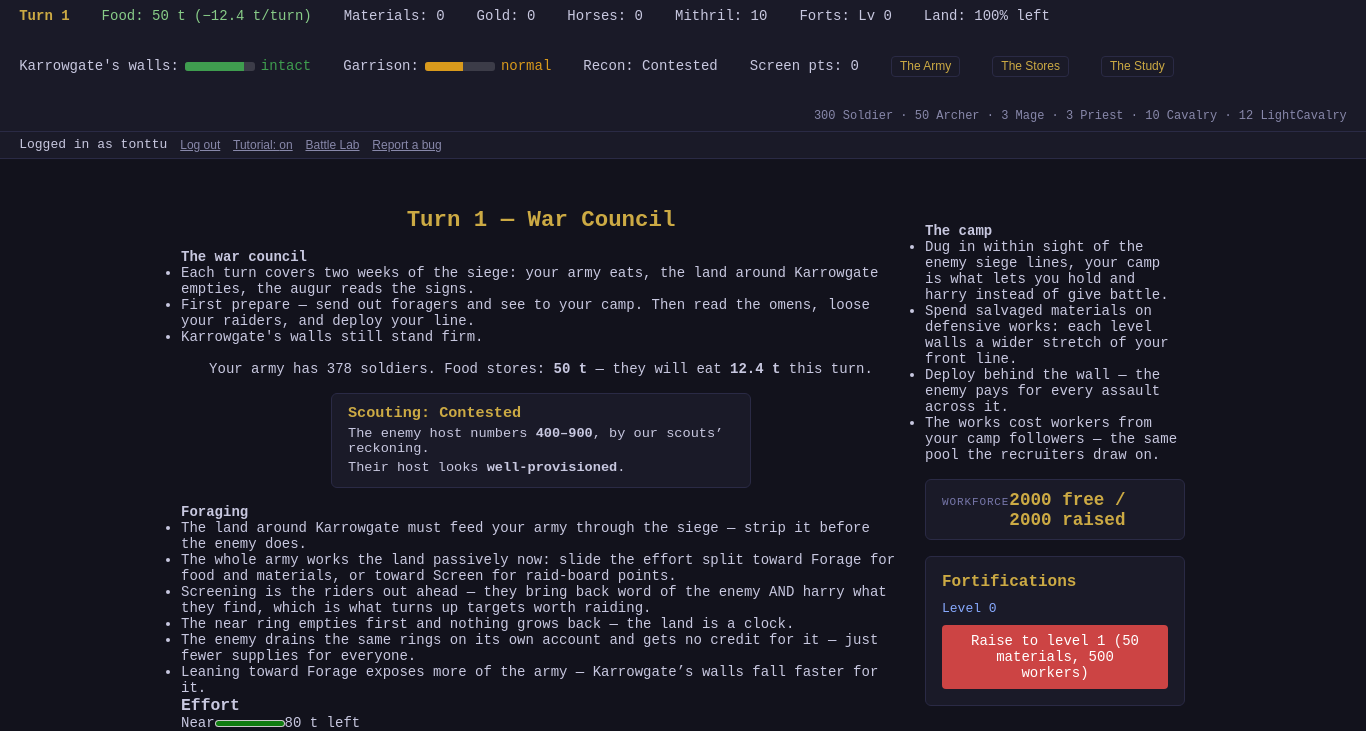
Test case: the paths a caster commands (docs/CAMPAIGN_PLAN.md "▶ SLICE 2", S2-13) › names them beside the character, so the hire gamble pays off the turn you take it
expect the heading "Turn 1 — War Council" is shown: met, box [407,207,675,233]
Click the button with test id "hud-army" at (926,66), box [891,56,960,77]
(page scrolled)
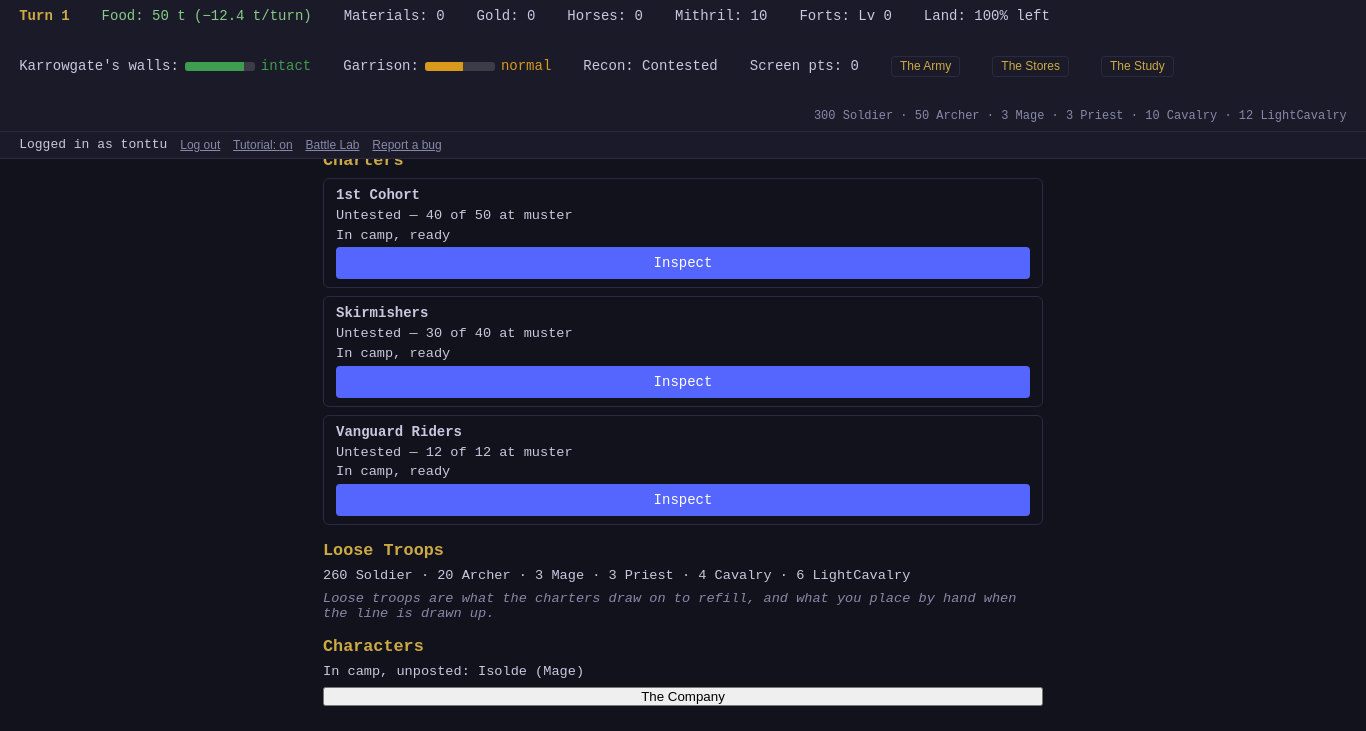
expect the element with test id "squad-roll" is shown: met, box [323,159,1043,706]
Click the button with test id "roll-to-company" at (683,697), box [323,687,1043,706]
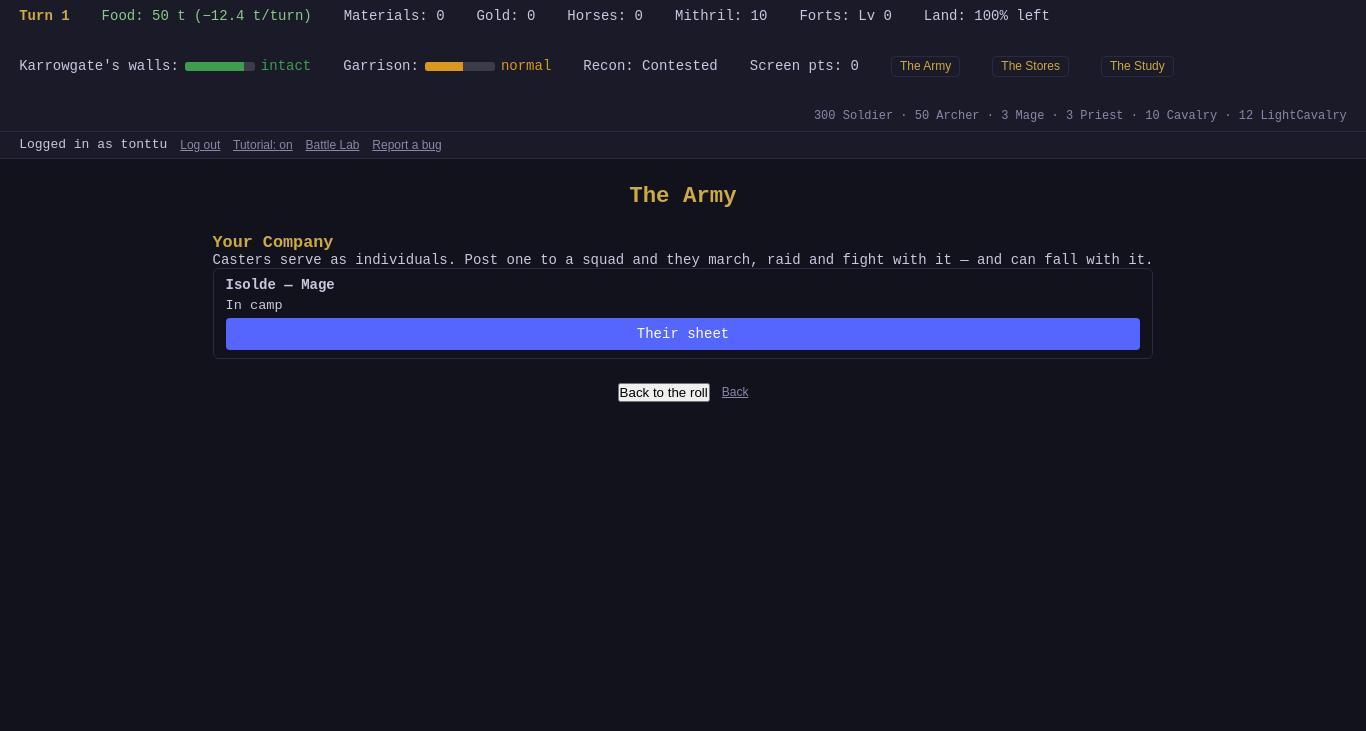
Click the button "Their sheet" at (683,334), box [226,318,1140,350]
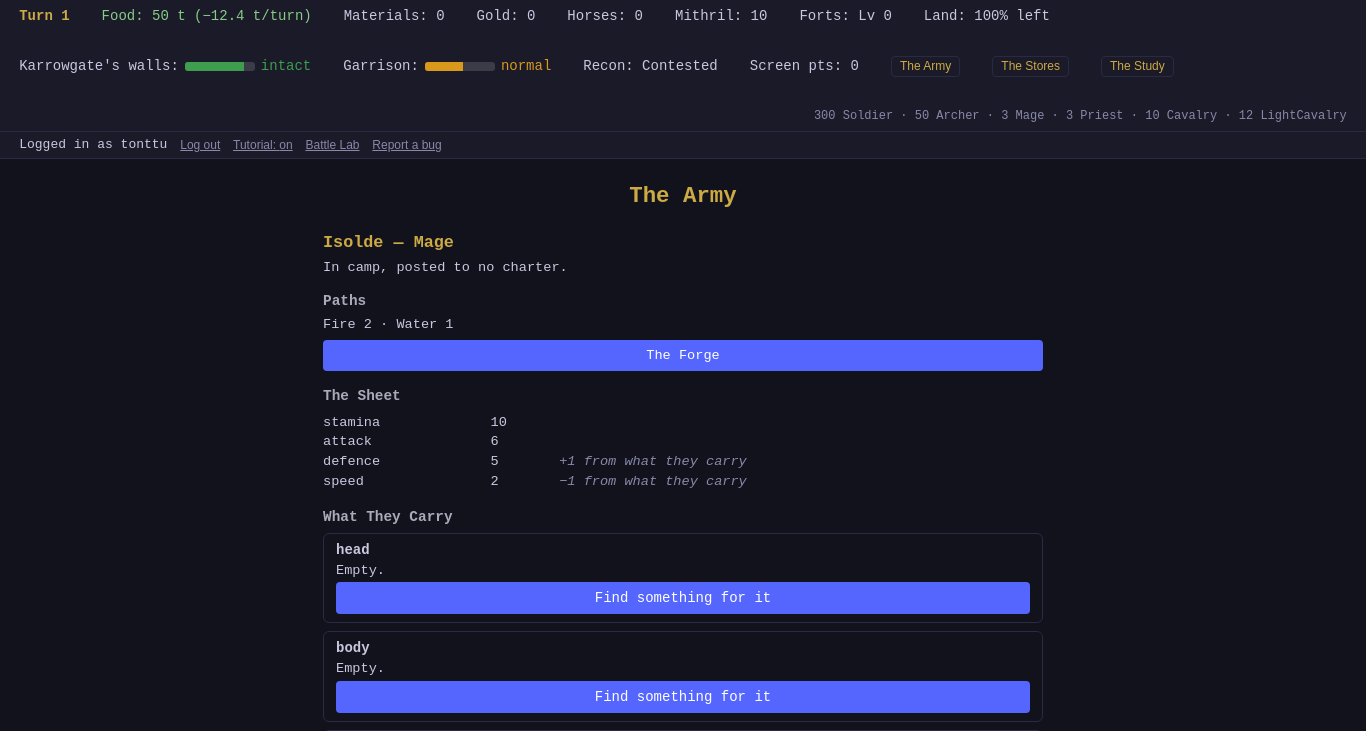
expect the text with test id "sheet-paths-1" reads "Fire 2 · Water 1": met, box [323,317,454,332]
